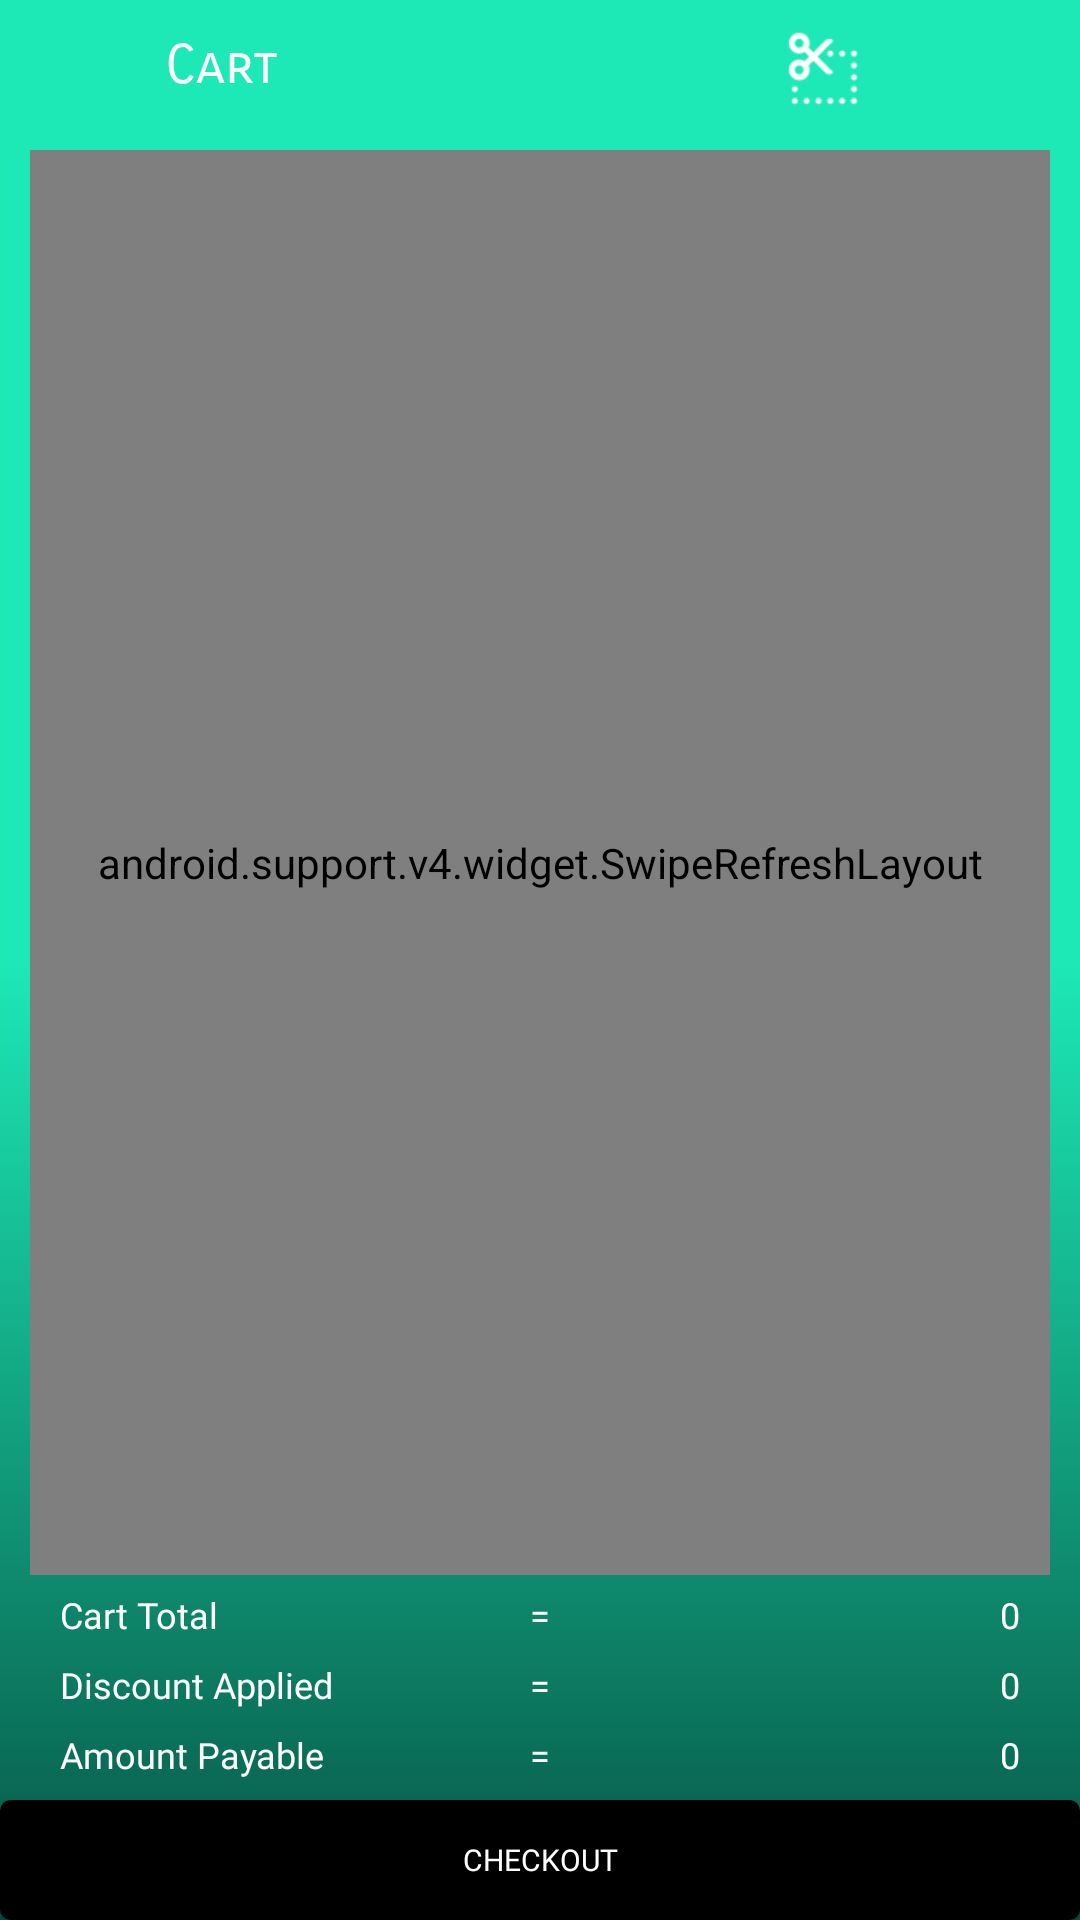

Icons on this 1080px x 1920px Android screen, each with the point to tap as point (x, y):
coupon: point (823, 68)
